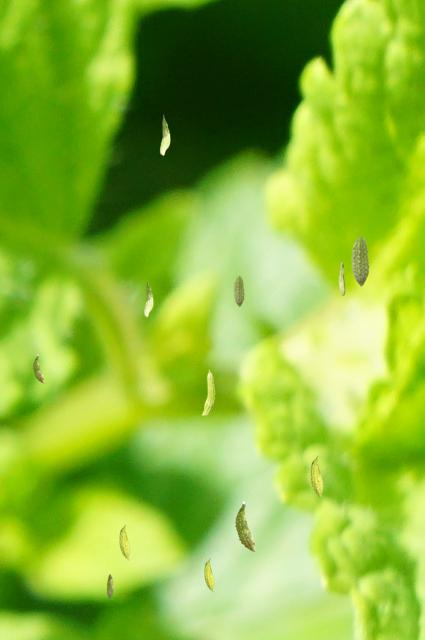ampalaya: (234, 501, 255, 552), (351, 235, 369, 286), (201, 369, 215, 416), (310, 455, 323, 499), (159, 114, 170, 156), (119, 524, 130, 560), (143, 279, 153, 317), (233, 275, 244, 307), (204, 557, 214, 592), (32, 354, 44, 383), (338, 262, 345, 296), (106, 574, 114, 598)
